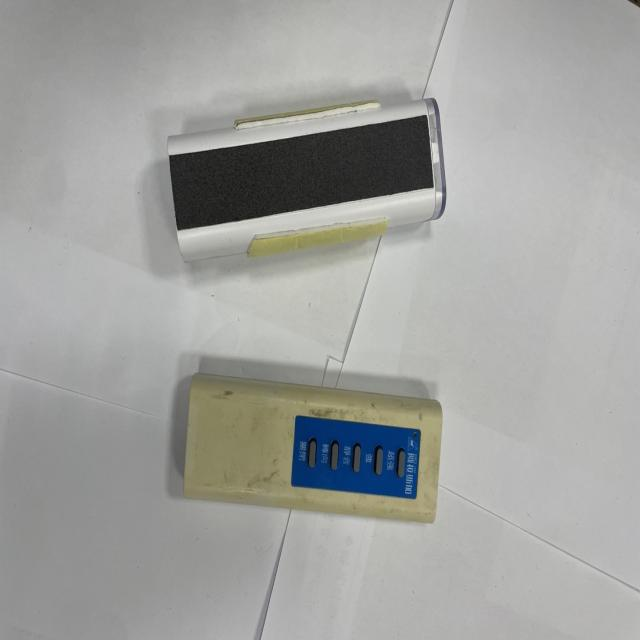remote: (162, 90, 454, 264), (180, 368, 446, 524)
